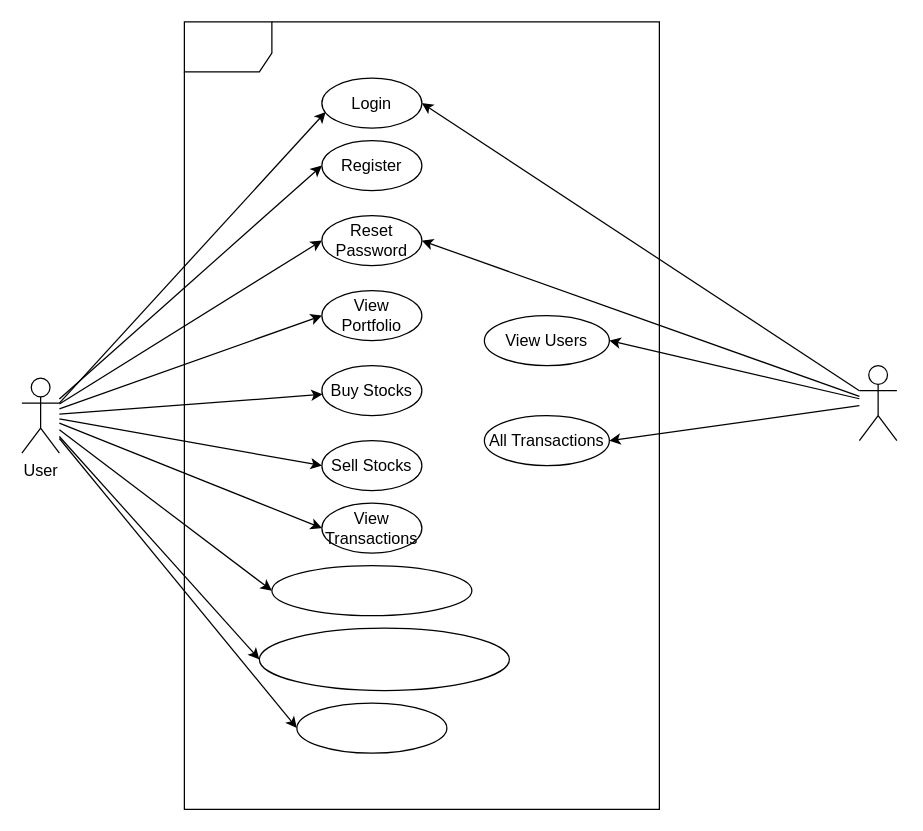
This 923x831 diagram has some shape labels left out. The shapes that lost their labels are listed below. From the top down, each one's box as (x1, y1, x2, y2) in pixels, then its label:
(183, 21, 659, 809): PSX Simulator
(858, 364, 897, 441): Admin
(271, 564, 472, 616): Add Stock to Watchlist
(258, 627, 509, 691): Remove Stock from Watchlist
(296, 702, 447, 753): View Watchlist
